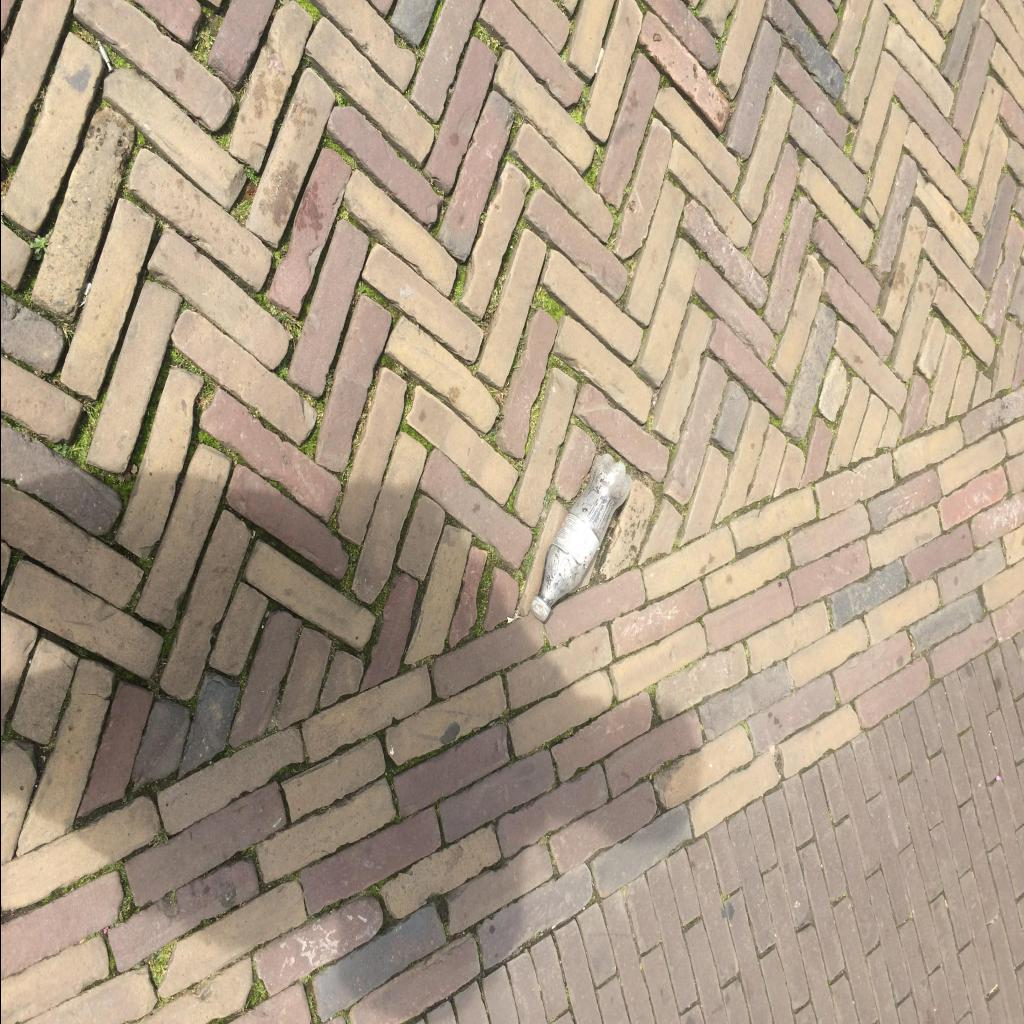Clear plastic bottle: (529, 453, 631, 621)
Plastic bottle cap: (528, 598, 548, 620)
Unlabeled litter: (96, 41, 112, 72)
